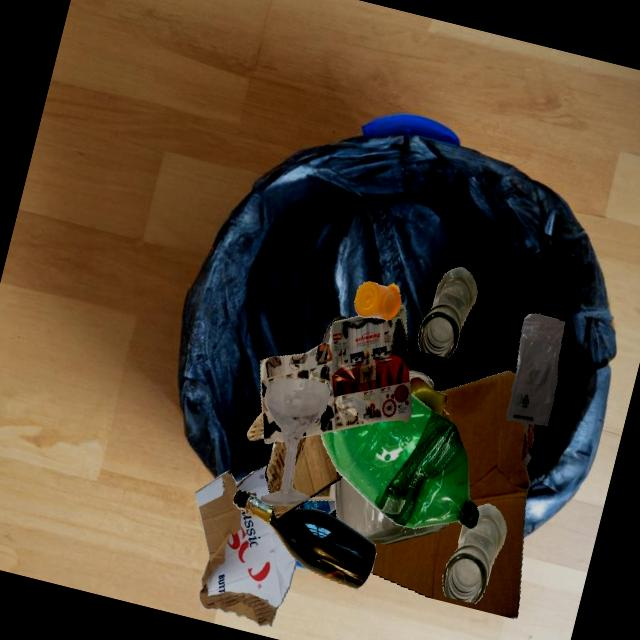biowaste: (409, 376, 450, 421)
cardboard: (370, 370, 533, 618), (194, 465, 269, 621), (247, 433, 342, 506)
glass: (233, 490, 376, 589), (260, 378, 329, 506), (333, 477, 449, 544), (442, 503, 506, 604), (418, 266, 477, 358), (321, 315, 348, 343)
paper: (260, 304, 411, 444), (307, 483, 335, 500)
plastic: (320, 393, 479, 529), (505, 313, 564, 425), (354, 281, 401, 320), (295, 500, 335, 514)
